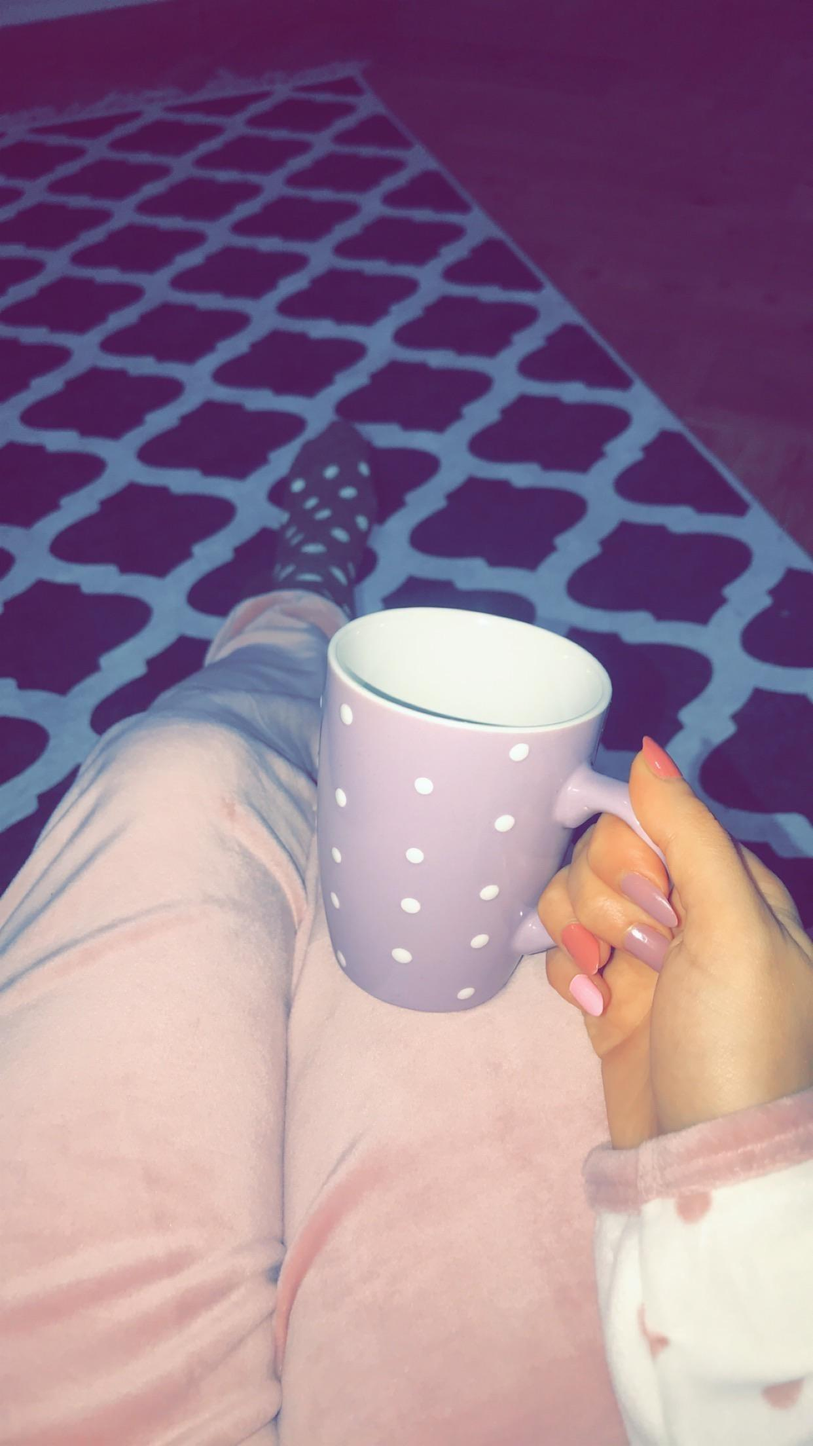cup-handle: (309, 605, 671, 1015)
